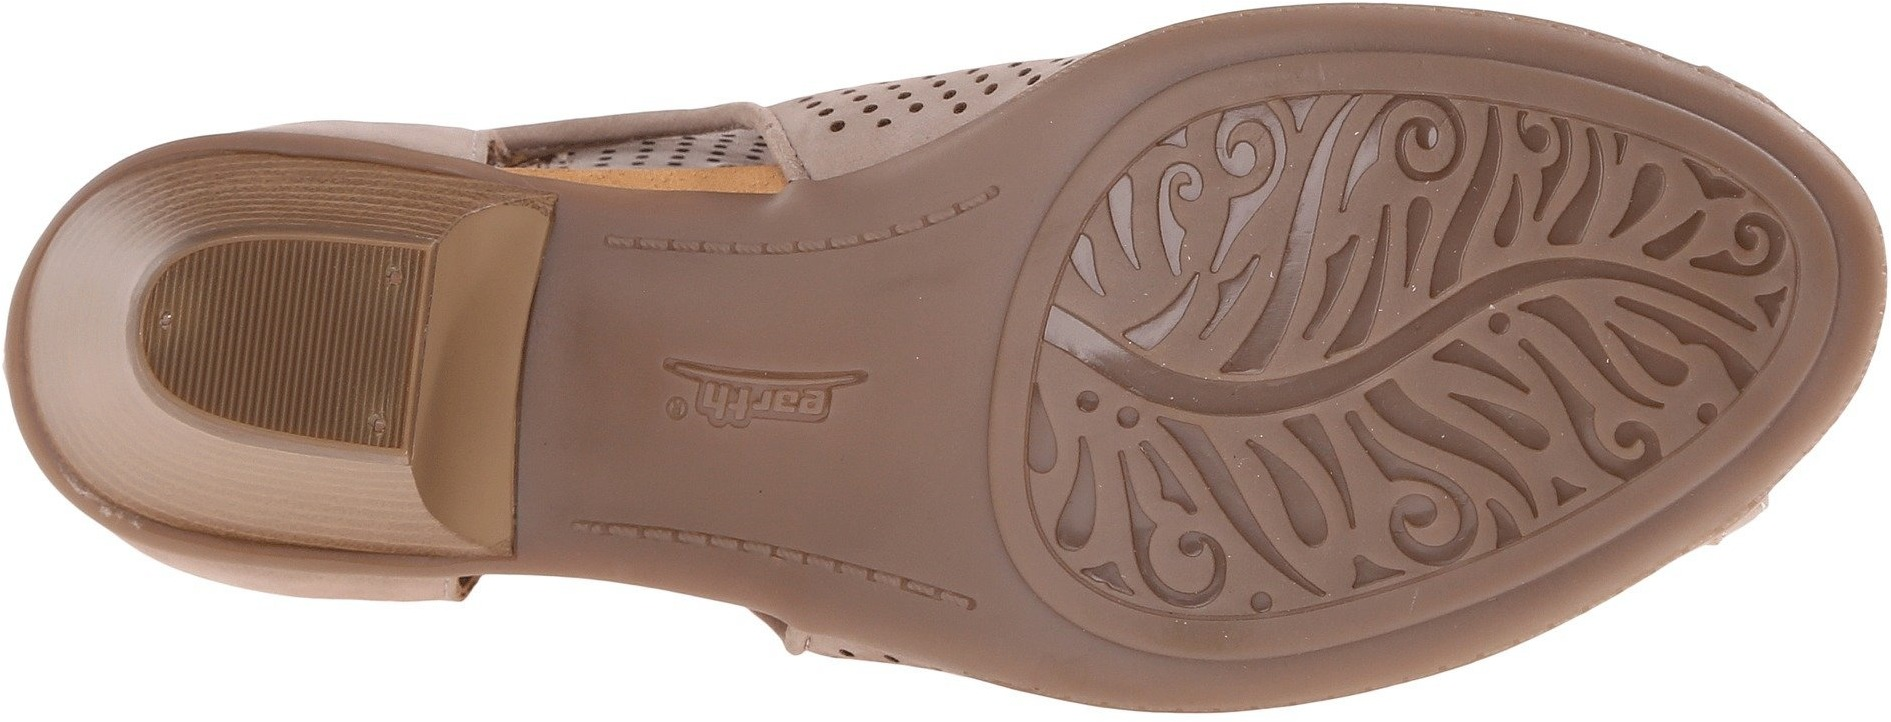other: (221, 245, 374, 412)
